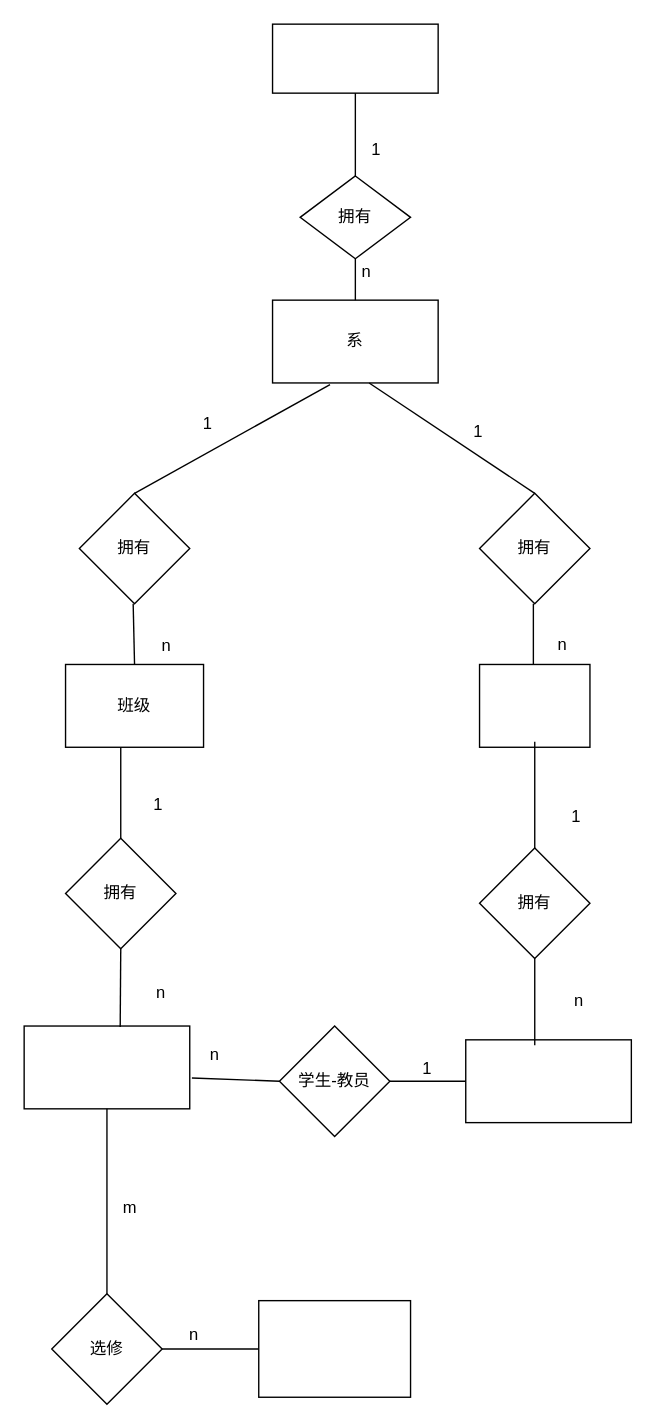
The diagram is 656 pixels wide and 1428 high, and some of its shapes have lost their labels. Each missing label, with the box of its shape:
学校: (271, 23, 438, 93)
学生: (23, 1025, 190, 1109)
教员: (464, 1038, 631, 1123)
教研室: (478, 663, 590, 747)
课程: (257, 1299, 411, 1397)
